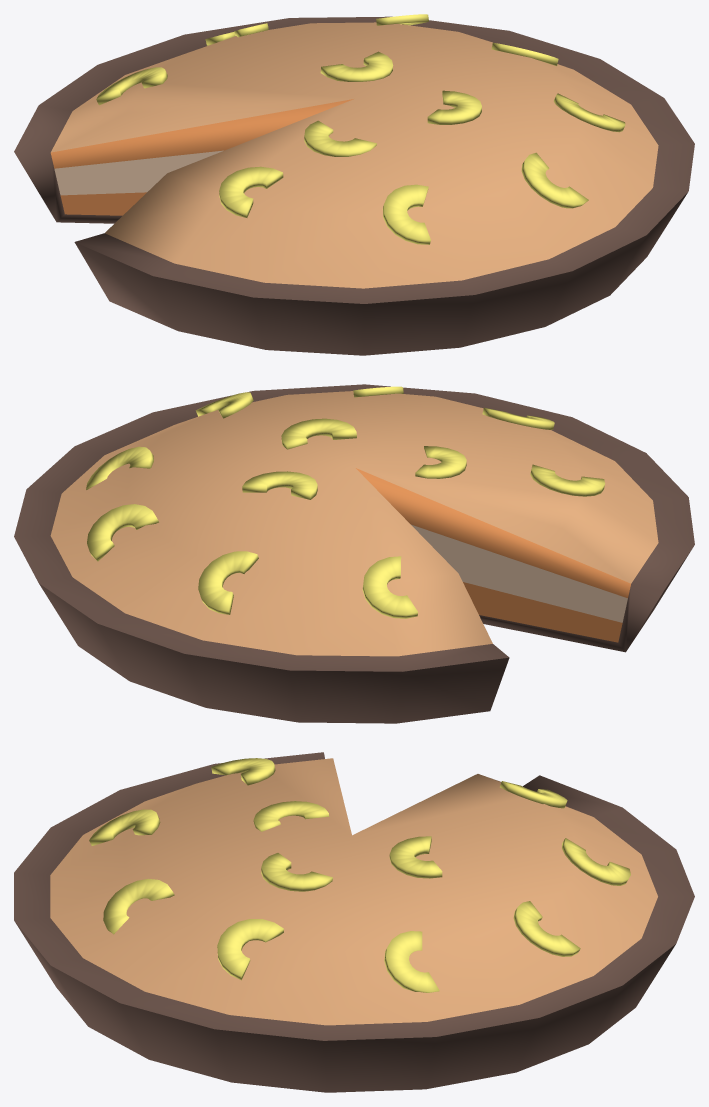
The model's file is pie.fbx.
3 renders of one model, top to bottom at view 1: azimuth 30°, elevation 25°; view 2: azimuth 150°, elevation 25°; view 3: azimuth 270°, elevation 25°, orthographic.
Visible parts, largest first — view 1: Cylinder, Cylinder.008, Cylinder.001, Cylinder.007, Cylinder.010, Cylinder.009, Cylinder.011, Cylinder.004, Cylinder.006, Cylinder.002; view 2: Cylinder, Cylinder.004, Cylinder.005, Cylinder.003, Cylinder.011, Cylinder.009, Cylinder.001, Cylinder.010, Cylinder.002, Cylinder.006, Cylinder.008; view 3: Cylinder, Cylinder.006, Cylinder.002, Cylinder.007, Cylinder.003, Cylinder.011, Cylinder.009, Cylinder.005, Cylinder.008, Cylinder.010, Cylinder.001, Cylinder.004.
Boxes of the visible parts, box(x1,y1,x2,y2) form: Cylinder: box(14, 16, 694, 355); Cylinder.008: box(382, 184, 430, 244); Cylinder.001: box(219, 166, 283, 217); Cylinder.007: box(521, 152, 588, 208); Cylinder.010: box(304, 120, 376, 156); Cylinder.009: box(320, 51, 393, 81); Cylinder.011: box(427, 90, 481, 124); Cylinder.004: box(96, 67, 167, 105); Cylinder.006: box(553, 93, 625, 132); Cylinder.002: box(491, 42, 558, 65); Cylinder: box(14, 384, 694, 723); Cylinder.004: box(362, 556, 418, 618); Cylinder.005: box(198, 551, 258, 614); Cylinder.003: box(87, 504, 158, 561); Cylinder.011: box(281, 418, 356, 449); Cylinder.009: box(242, 471, 317, 499); Cylinder.001: box(530, 464, 605, 496); Cylinder.010: box(415, 446, 466, 478); Cylinder.002: box(86, 446, 153, 489); Cylinder.006: box(195, 392, 253, 418); Cylinder.008: box(482, 407, 554, 429); Cylinder: box(14, 752, 694, 1092); Cylinder.006: box(217, 919, 283, 980); Cylinder.002: box(384, 931, 439, 992); Cylinder.007: box(103, 878, 174, 934); Cylinder.003: box(513, 901, 580, 956); Cylinder.011: box(261, 853, 332, 891); Cylinder.009: box(389, 836, 442, 878); Cylinder.005: box(562, 838, 630, 885); Cylinder.008: box(89, 809, 160, 845); Cylinder.010: box(253, 801, 329, 831); Cylinder.001: box(211, 758, 275, 785); Cylinder.004: box(500, 781, 567, 808).
Size of the model in its own units: 199 by 42.72 by 199.
1 material, 1 textured.
